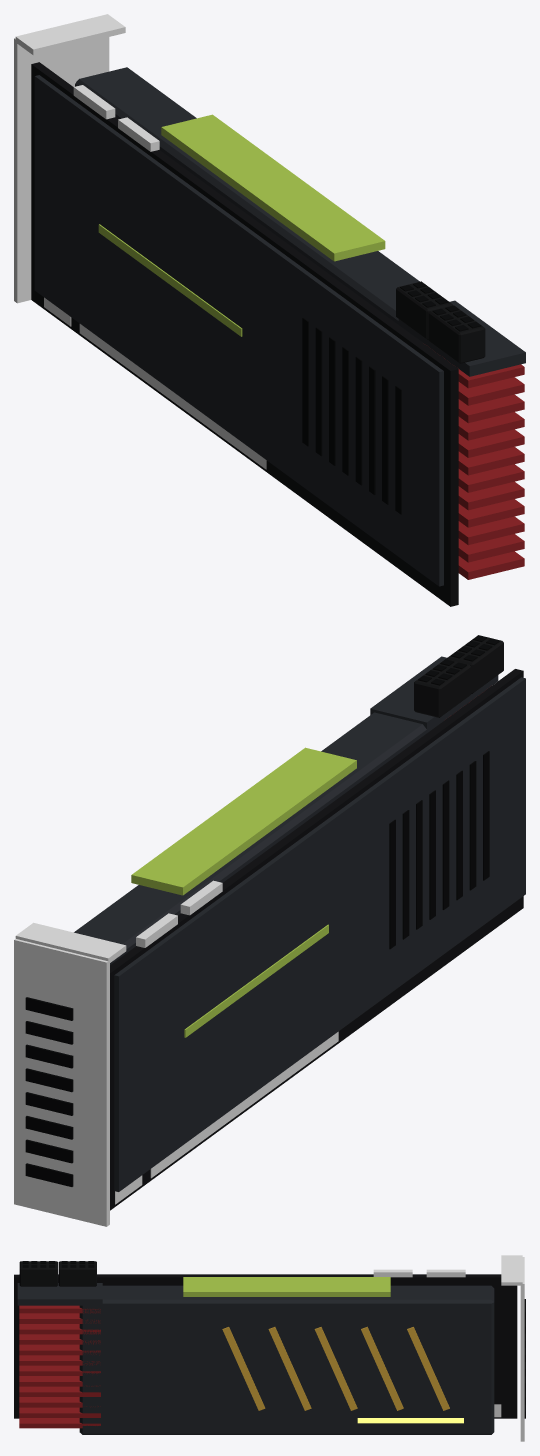
The model's file is hw_gpu_b200.glb.
3 renders of one model, top to bottom at view 1: azimuth 30°, elevation 25°; view 2: azimuth 150°, elevation 25°; view 3: azimuth 270°, elevation 25°, orthographic. The views are drawn at different scales.
Parts seen in each view (by area): view 1: Body; view 2: Body; view 3: Body.
Part boxes in pixels (box(x1,y1,x2,y2)): Body: box(14, 14, 525, 606); Body: box(14, 635, 525, 1226); Body: box(14, 1255, 525, 1441).
Bounding box in the file's own units: 0.0361 × 0.1006 × 0.2884.
